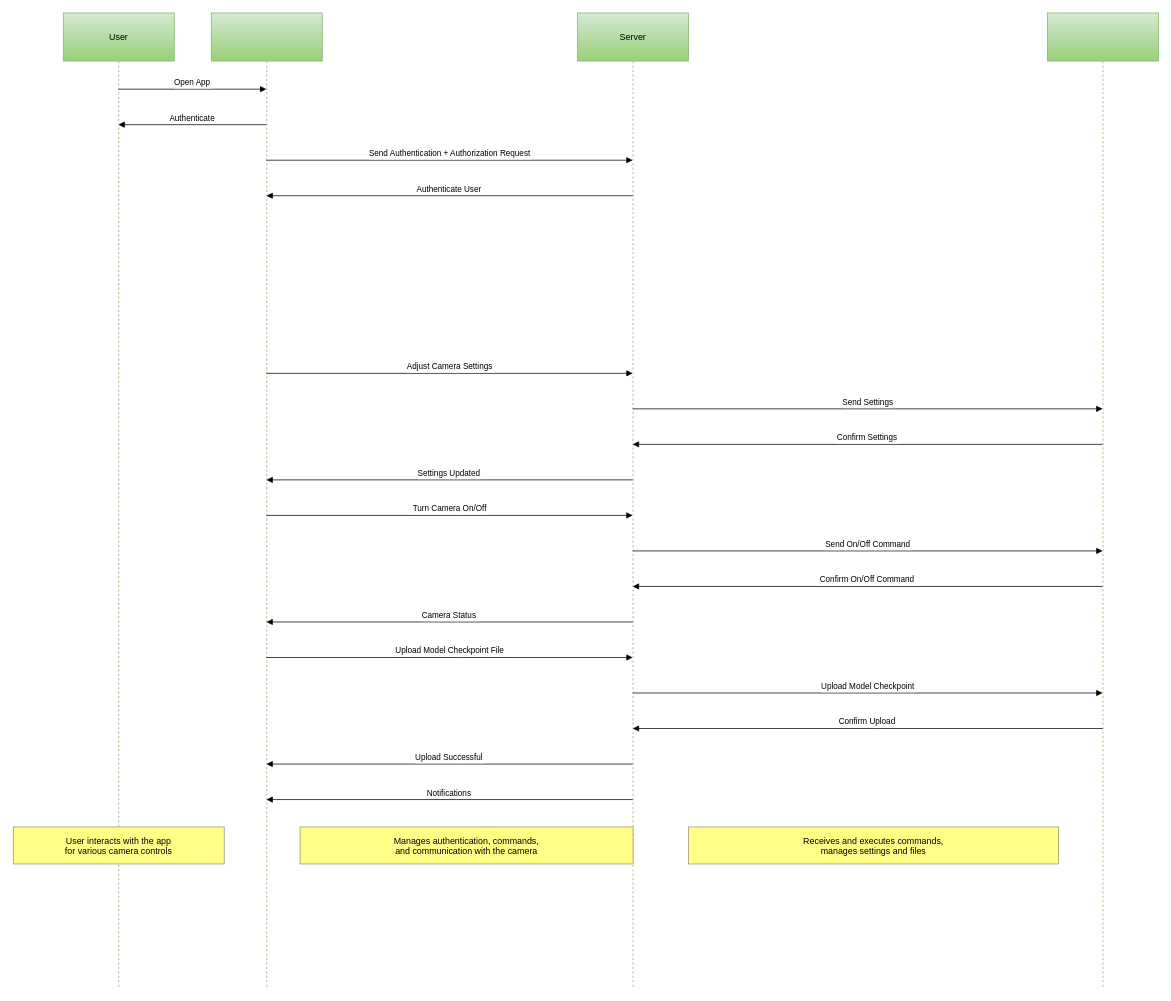
Image size: 1171x1001. Some labels were removed from this diagram. The shapes that lost their labels are listed below. From the top down, each one's box as (x1, y1, x2, y2) in pixels, then its label:
(211, 12, 322, 988): MobileApp
(1047, 12, 1158, 988): Camera
